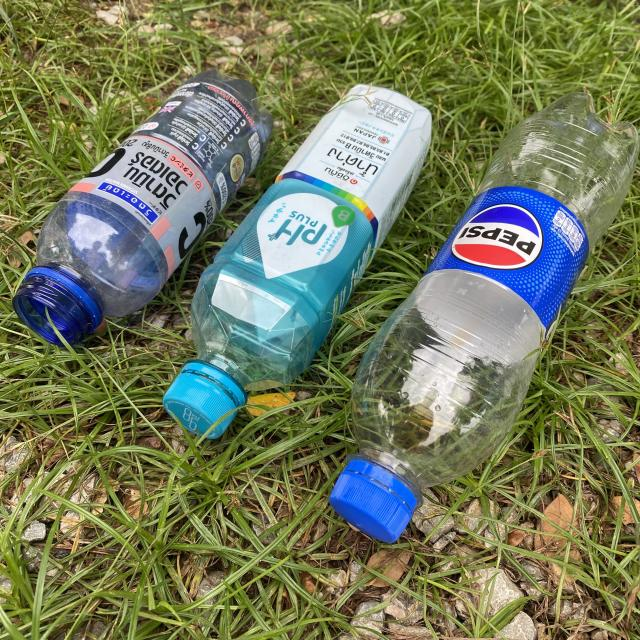plastik: (330, 92, 639, 542), (162, 85, 431, 439), (12, 70, 272, 344)
